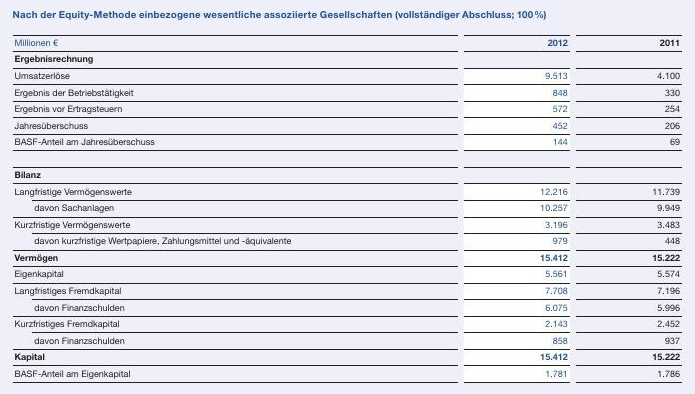table: (0, 0, 695, 394)
